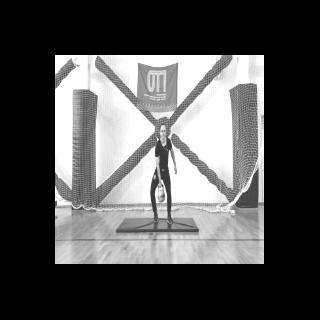kettlebell: (156, 183, 164, 204)
